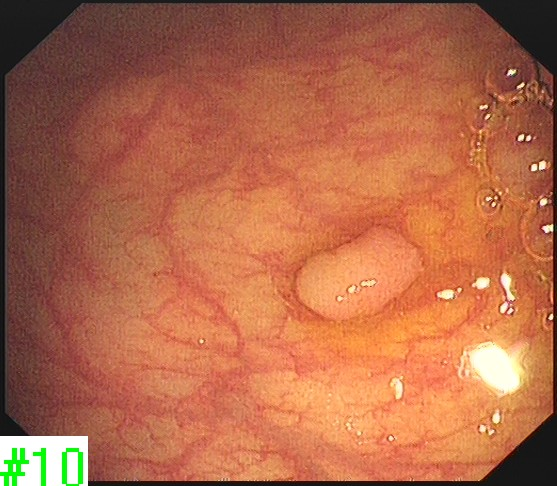adenoma: (288, 218, 439, 327)
